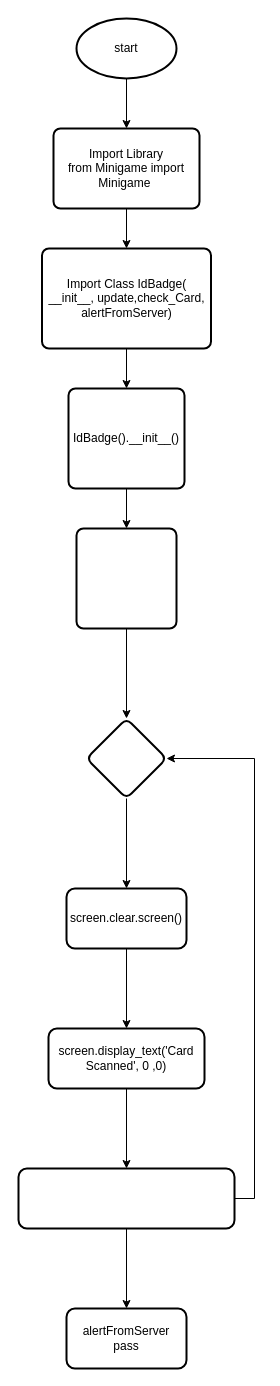
This 280x1386 diagram has some shape labels left out. Here are the shapes that lost their labels. From the top down, the centre of each, then its label:
pixel 126 578: update() check.card(tag)
pixel 126 758: if tag == 'card'
pixel 126 1198: wifi.sendRequest('minigameComplete?scannerid=' + id)
